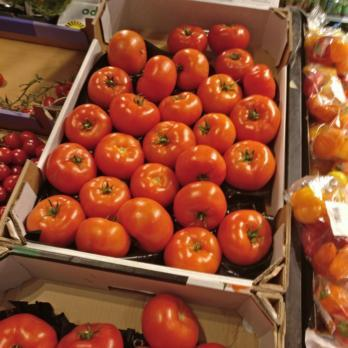Tomato: (108, 17, 267, 256), (46, 146, 105, 250), (140, 296, 200, 348), (0, 315, 59, 348), (60, 320, 126, 348)
